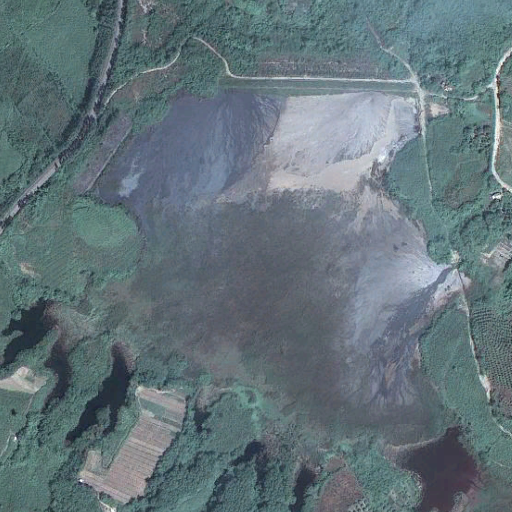tp: (83, 87, 458, 451)
